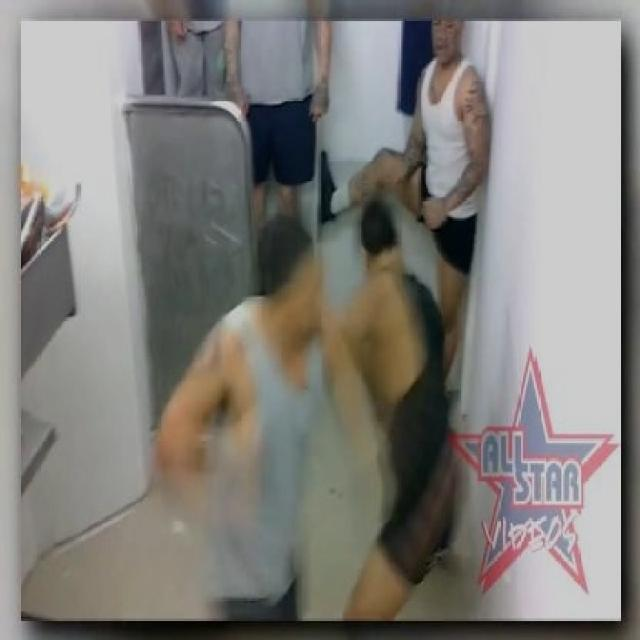fight: (143, 194, 457, 621)
non-fight: (318, 21, 492, 404), (220, 19, 329, 257)
